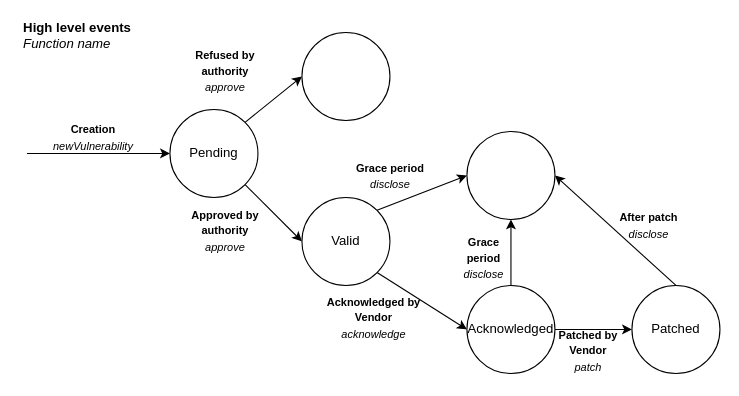
Image size: 739x396. Some labels were removed from this diagram. The centre of each missing label's shape, as x and y in pixels:
Disclosed: [510,174]
Invalid: [345,75]
